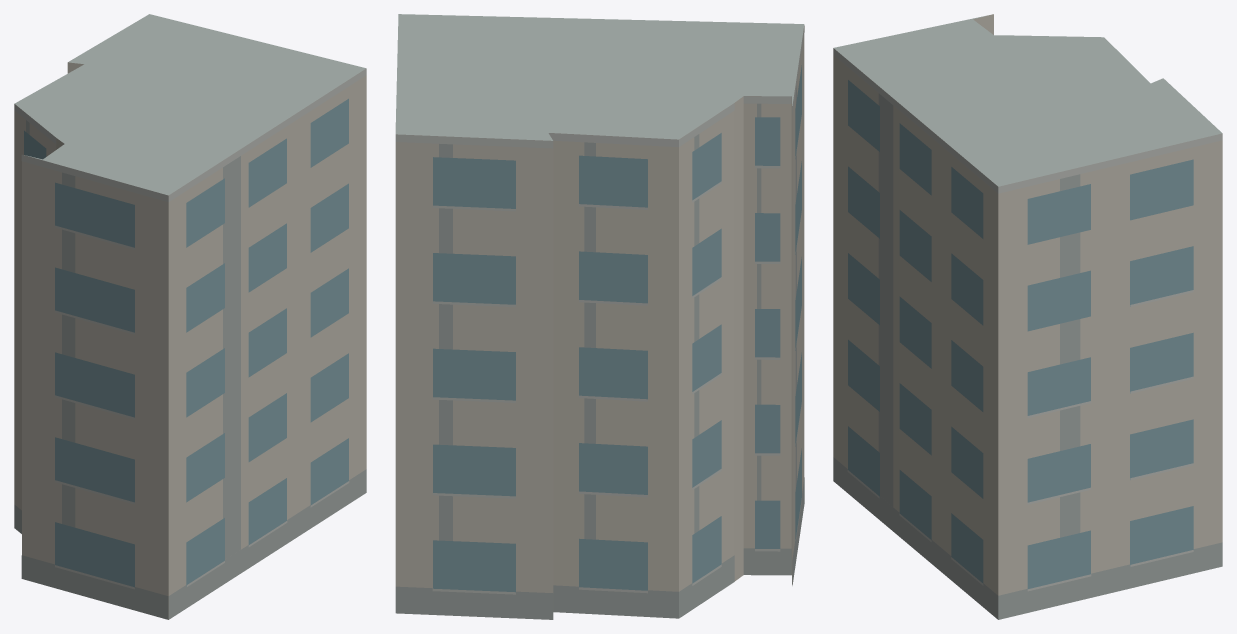
The model's file is survey-upis-32837589.glb.
3 views of the same model, side by side, from view 1: azimuth 30°, elevation 25°; view 2: azimuth 150°, elevation 25°; view 3: azimuth 270°, elevation 25° (orthographic). The views are drawn at different scales.
Parts seen in each view (by area): view 1: survey-upis-32837589.tmp; view 2: survey-upis-32837589.tmp; view 3: survey-upis-32837589.tmp.
Boxes of the visible parts, x1,y1,x2,y2 form: survey-upis-32837589.tmp: (14,14,366,619); survey-upis-32837589.tmp: (395,14,804,619); survey-upis-32837589.tmp: (833,14,1222,619).
Size of the model in its own units: 13.05 by 15.25 by 12.43.
